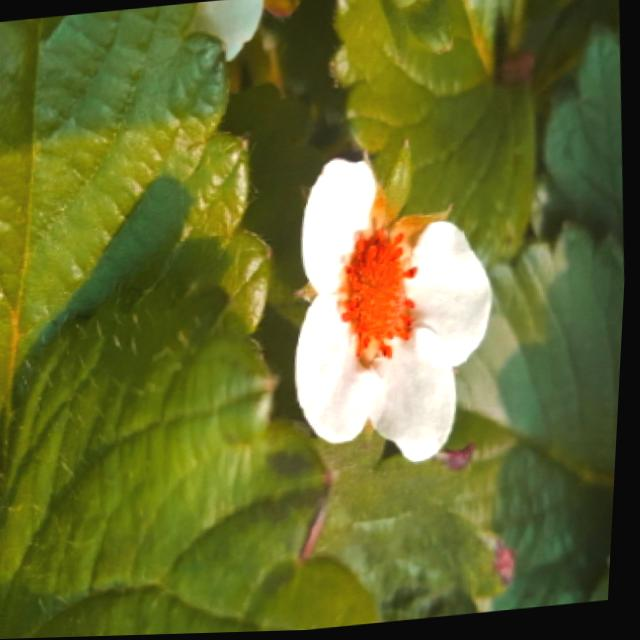Blossom Blight: (337, 220, 426, 378)
